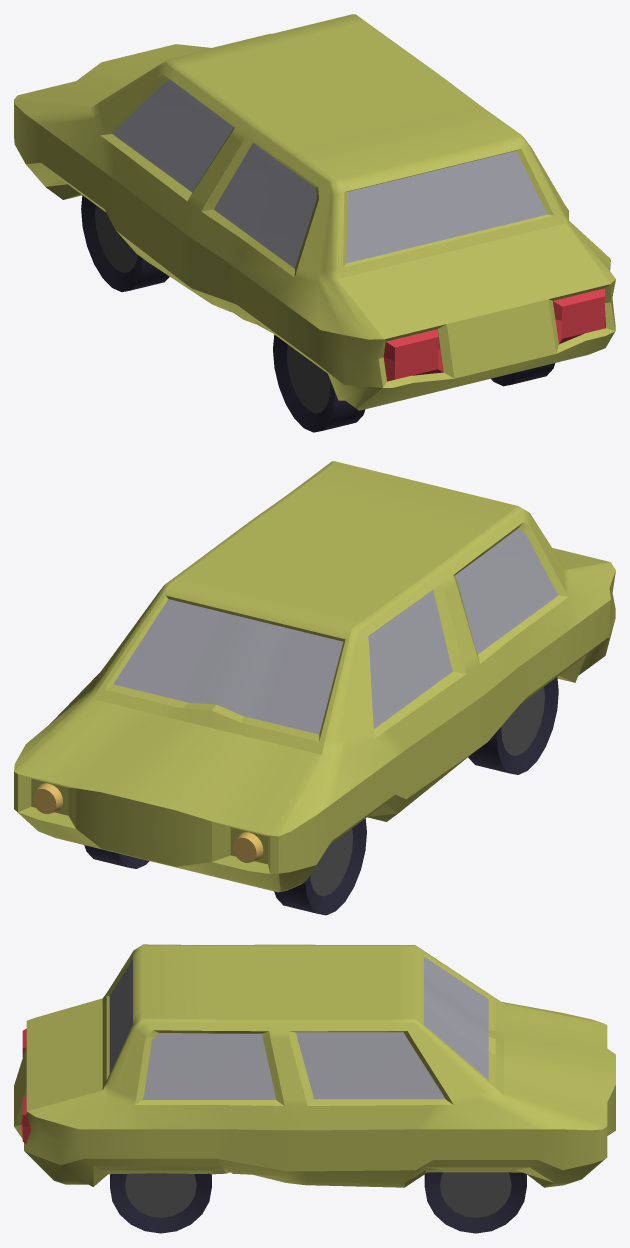
File: YellowCar.fbx
3 renders of one model, top to bottom at view 1: azimuth 30°, elevation 25°; view 2: azimuth 150°, elevation 25°; view 3: azimuth 270°, elevation 25°, orthographic. The views are drawn at different scales.
Parts seen in each view (by area): view 1: pCube2; view 2: pCube2; view 3: pCube2.
Part boxes in pixels (<box>): pCube2: <box>14,14,615,432</box>; pCube2: <box>14,461,615,915</box>; pCube2: <box>14,944,615,1233</box>.
Size of what is drawn, in the model's own units: 9.68 by 7.86 by 20.77.
